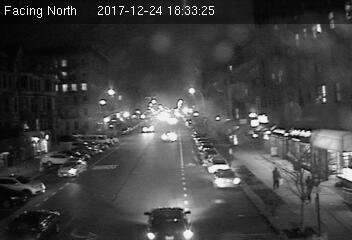car: (142, 203, 193, 240), (56, 157, 87, 178), (212, 167, 242, 188), (160, 130, 177, 141)
